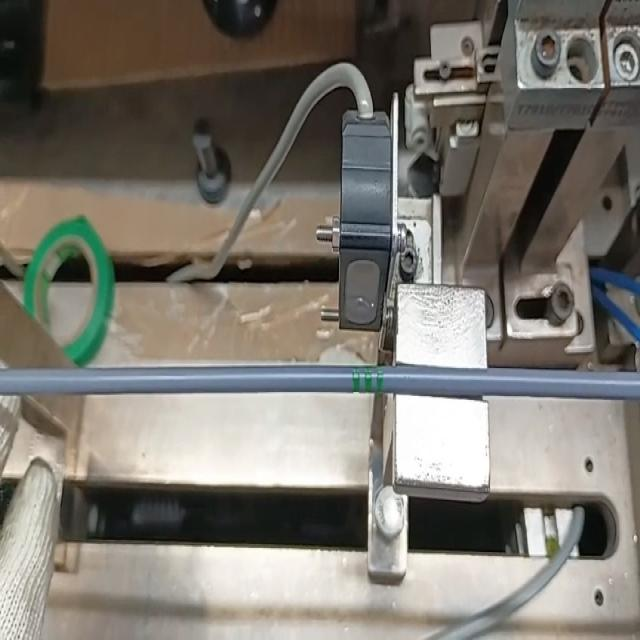green: (352, 364, 383, 393)
